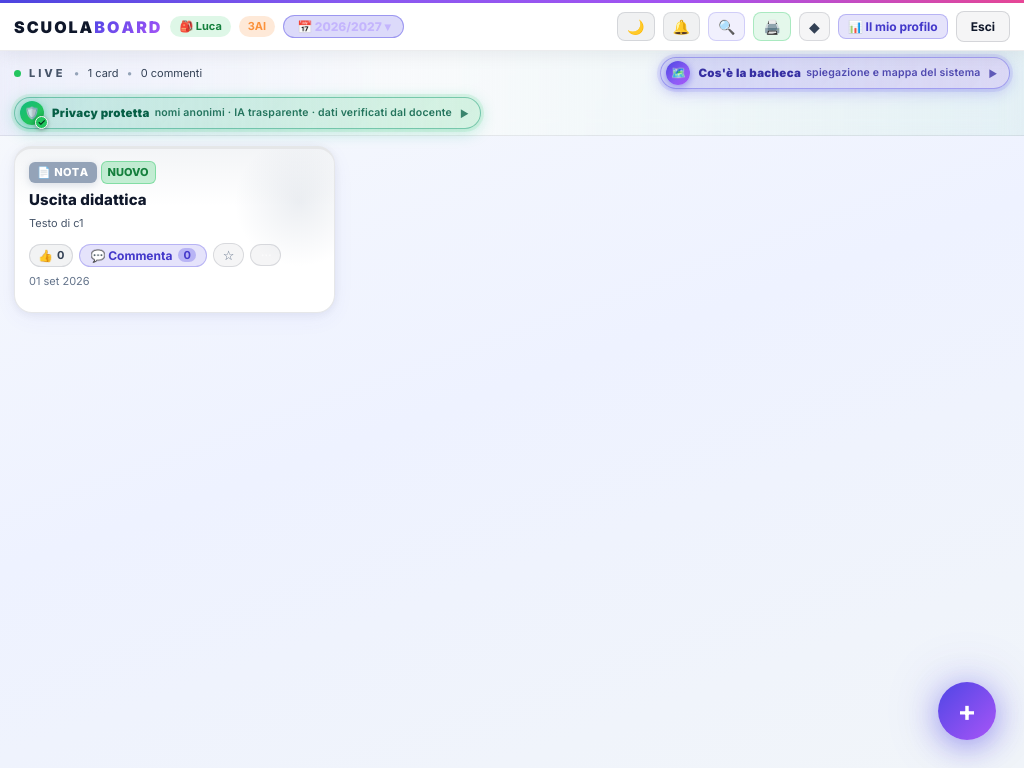
Test: avvisi di classe: commento di uno studente › il messaggio porta l'ANTEPRIMA del commento, non solo l'autore
Click the text "Uscita didattica" at (88, 199), box left=29, top=190, right=147, bottom=208
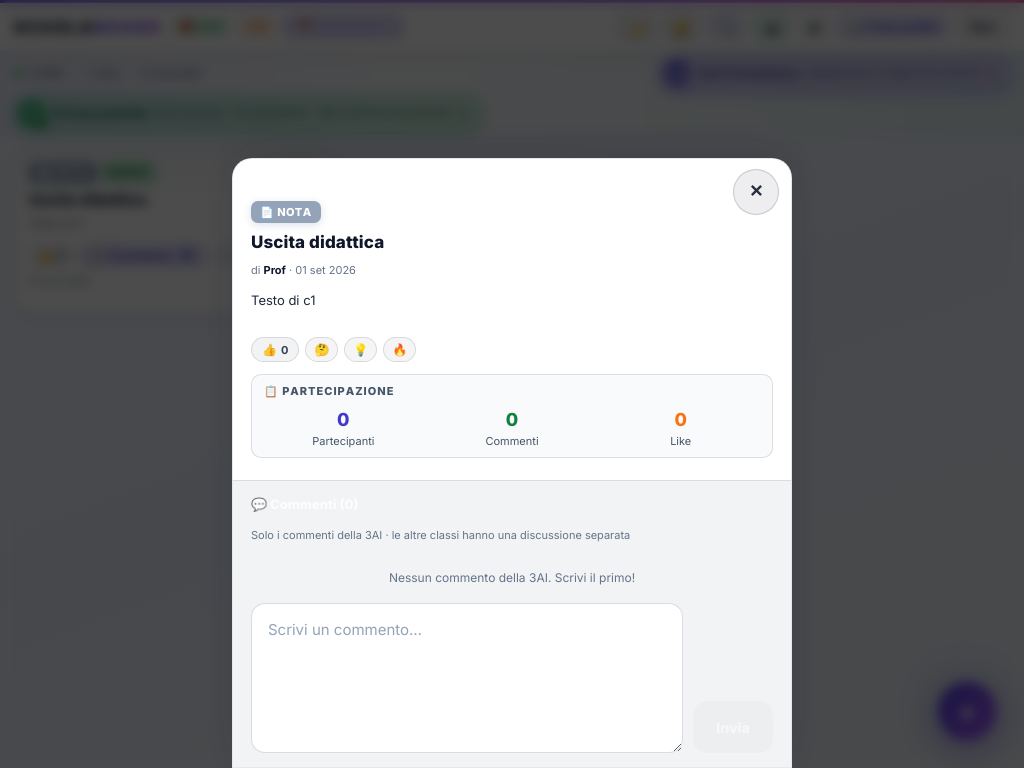
Type "Il posto è meraviglioso, ma ricordate che il bus parte alle sette in punto e chi arriva tardi resta a terra" into the text box with placeholder "Scrivi un commento…" at (467, 678), box left=251, top=603, right=683, bottom=753
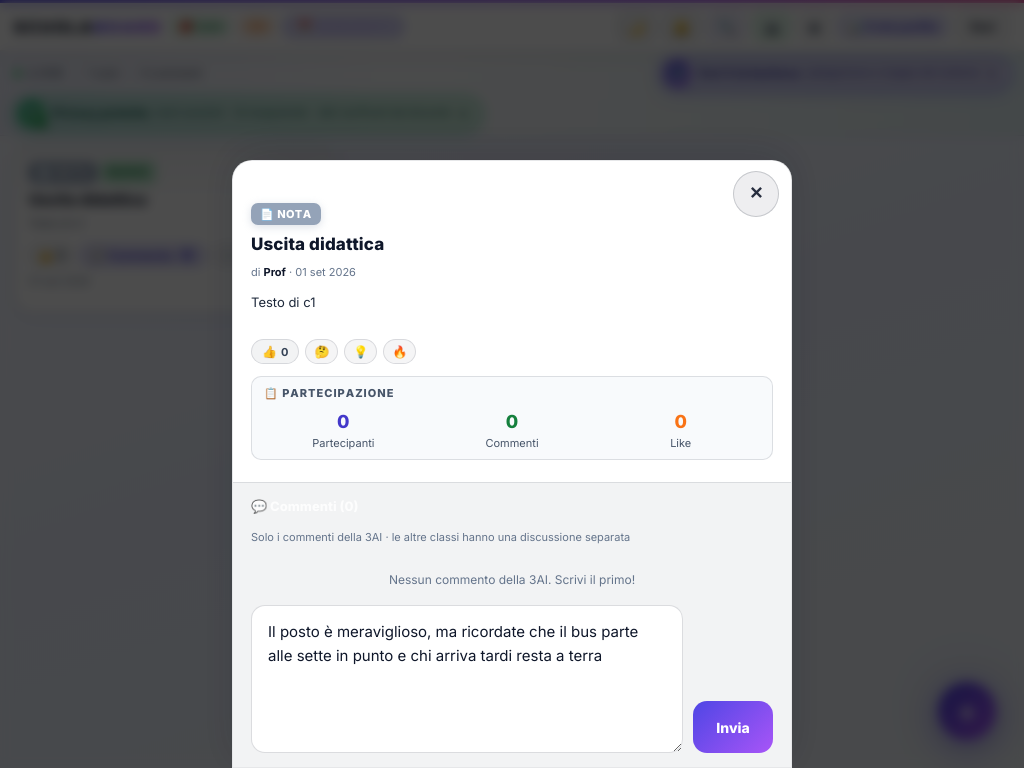
Press Enter in the text box with placeholder "Scrivi un commento…", box left=251, top=605, right=683, bottom=753
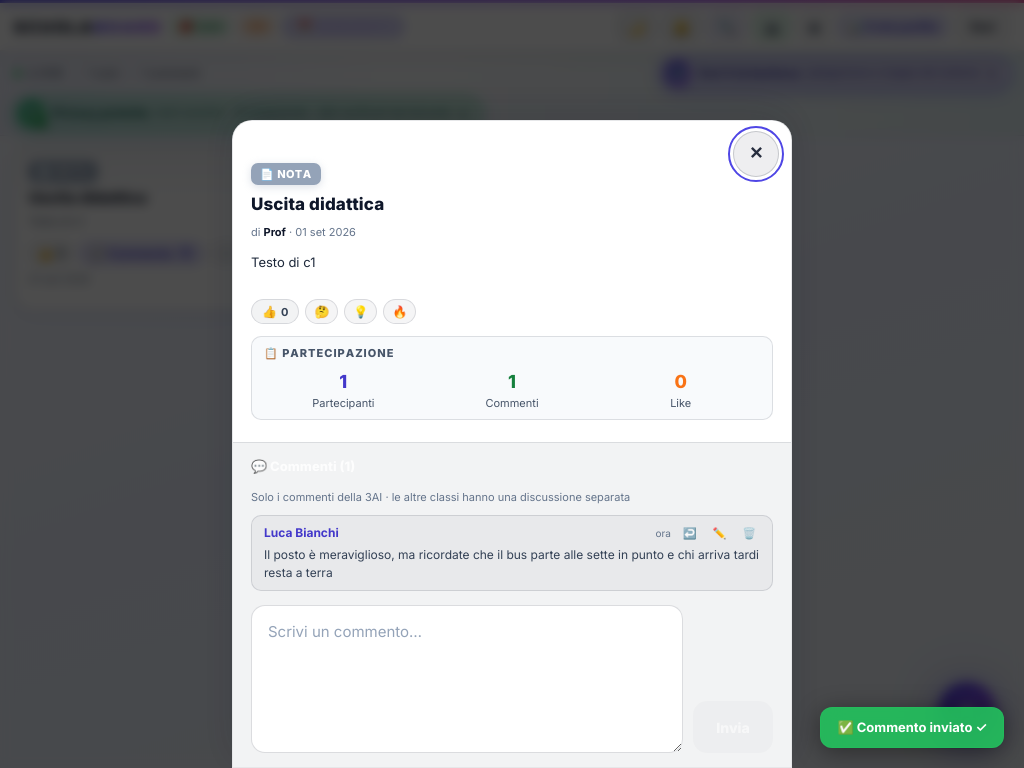
Now the text "Il posto è meraviglioso" is shown, box left=264, top=547, right=762, bottom=580
